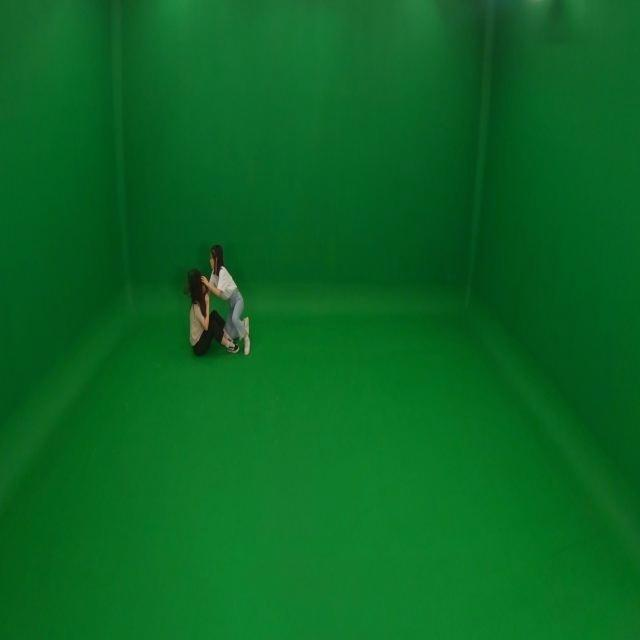fight: (183, 243, 254, 362)
